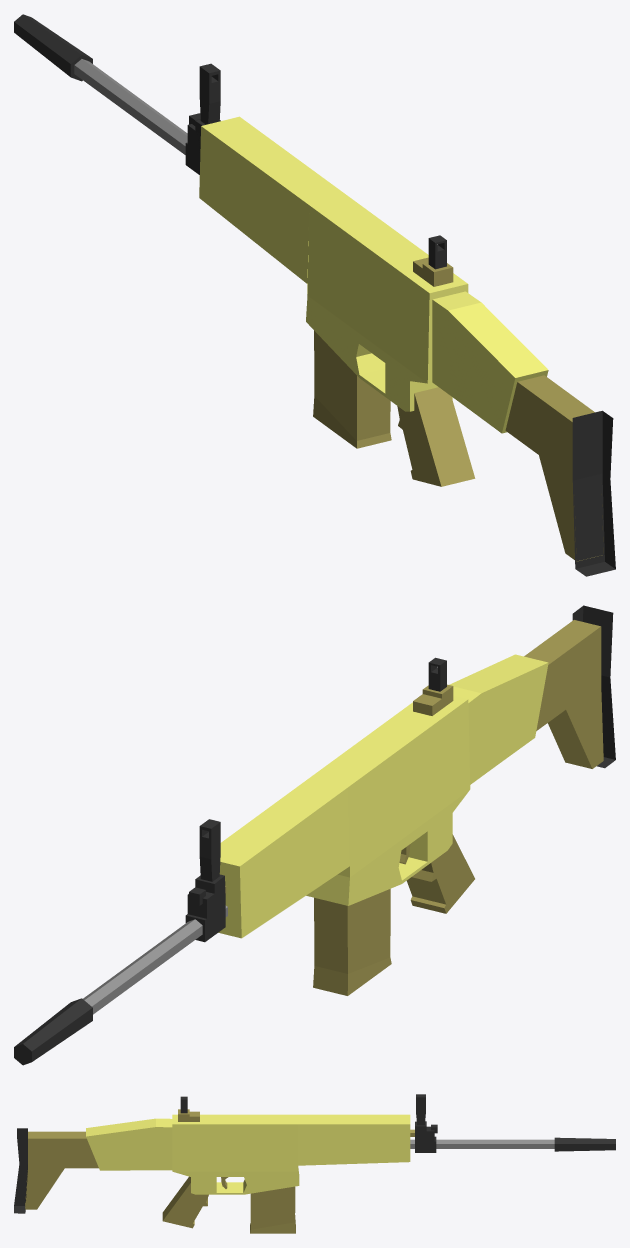
File: scar-h (1).fbx
3 views of the same model, one above another, from view 1: azimuth 30°, elevation 25°; view 2: azimuth 150°, elevation 25°; view 3: azimuth 270°, elevation 25° (orthographic). The views are drawn at different scales.
Visible parts, largest first — view 1: 큐브; view 2: 큐브; view 3: 큐브.
Boxes of the visible parts, left/top/right/bottom form: 큐브: left=14, top=14, right=615, bottom=576; 큐브: left=14, top=605, right=615, bottom=1065; 큐브: left=14, top=1094, right=615, bottom=1233.
Size of the model in its own units: 21.08 by 121 by 497.
